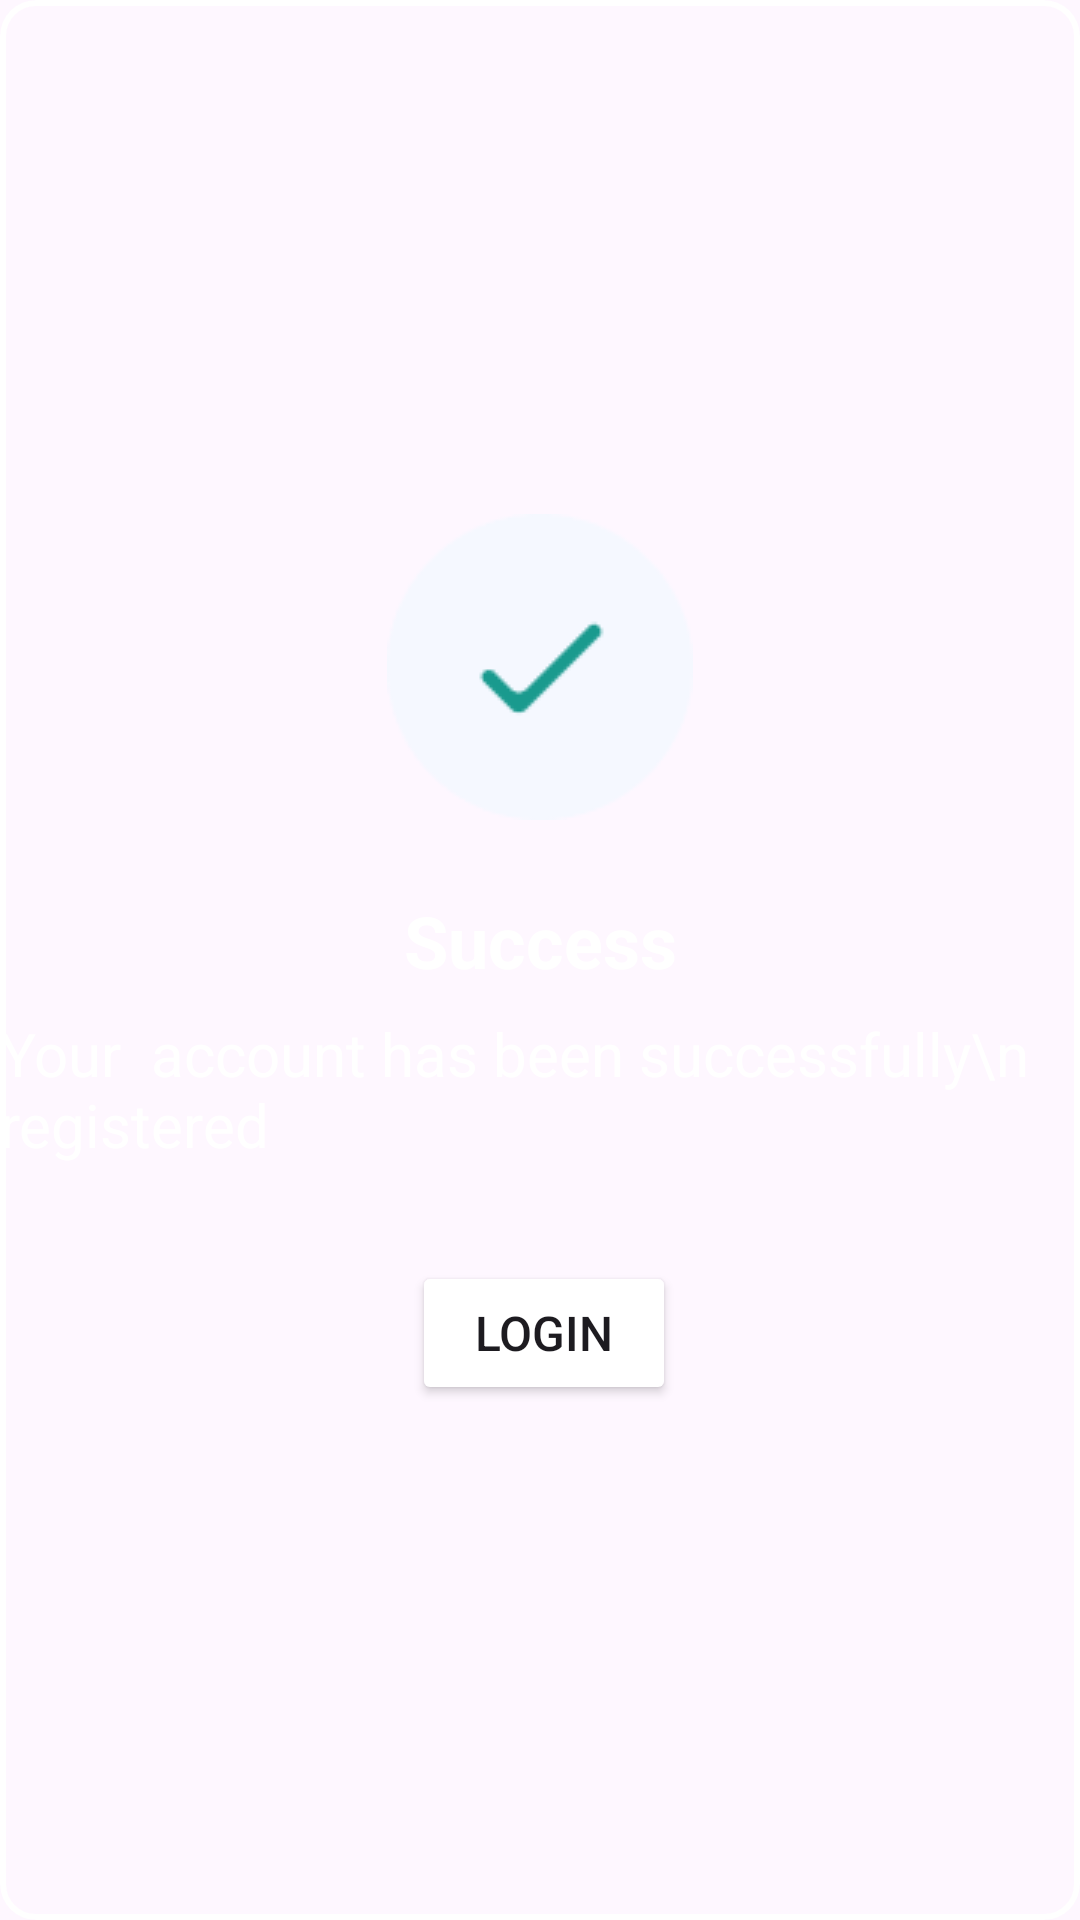

Where icons sit on this 1080x1920 app screen, as rect(x1, y1, x2, y2):
done: rect(387, 514, 693, 820)
